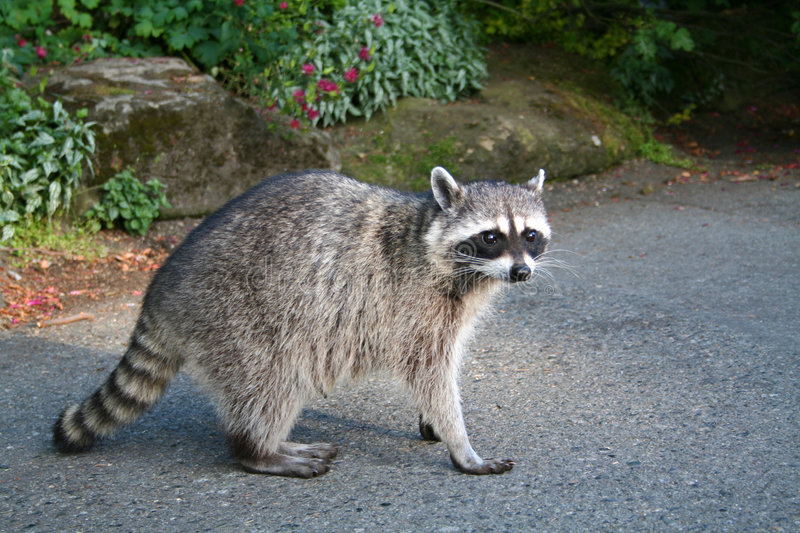wild: (423, 163, 557, 290)
